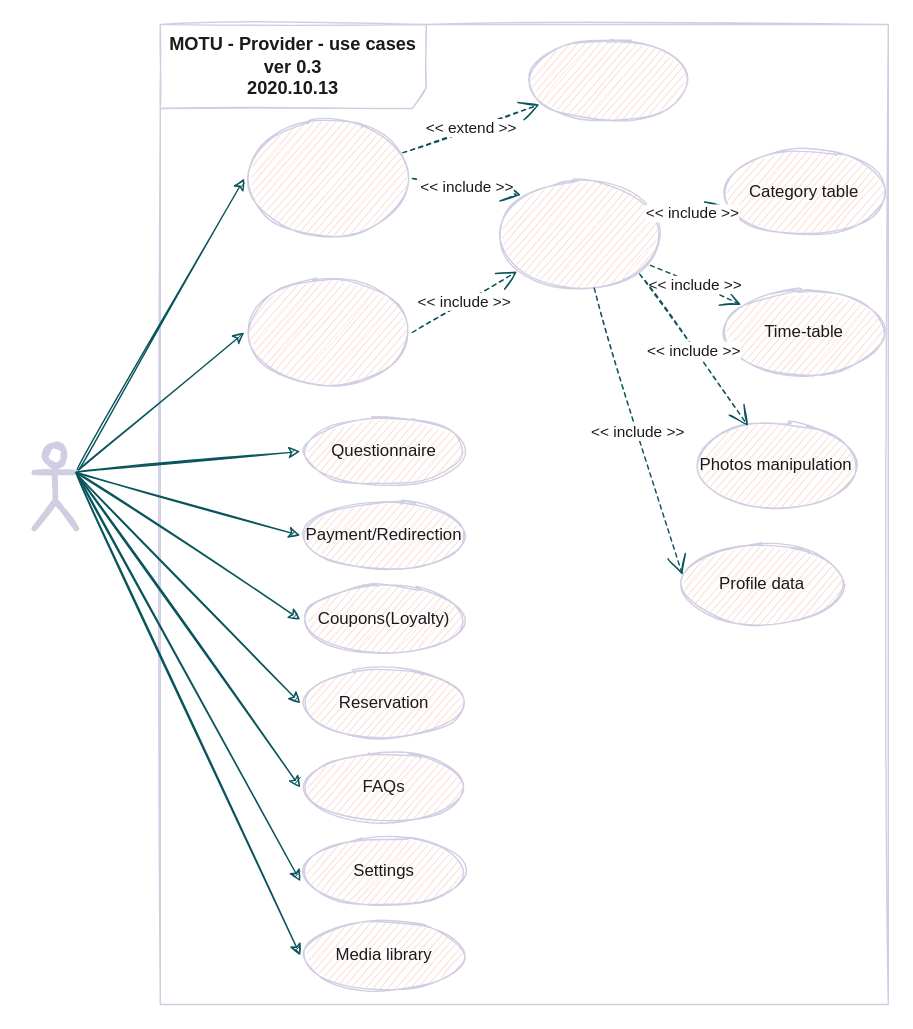
Some shapes in this 913 by 1029 pixel diagram are drawn without their labels. The shapes that lost their labels are listed below. From the top down, each one's centre as x and y in pixels, then its label:
At (x=607, y=79): "Invalid Details".
At (x=327, y=177): "Login".
At (x=579, y=233): "Provider Profile ( Showcase)".
At (x=327, y=331): "Registration".
At (x=54, y=486): "Provider".
